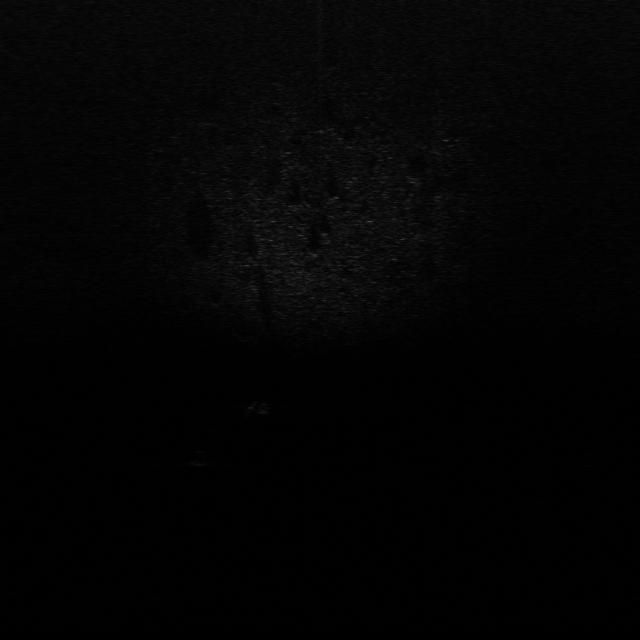ball: (184, 448, 216, 472)
human body: (244, 400, 274, 418)
